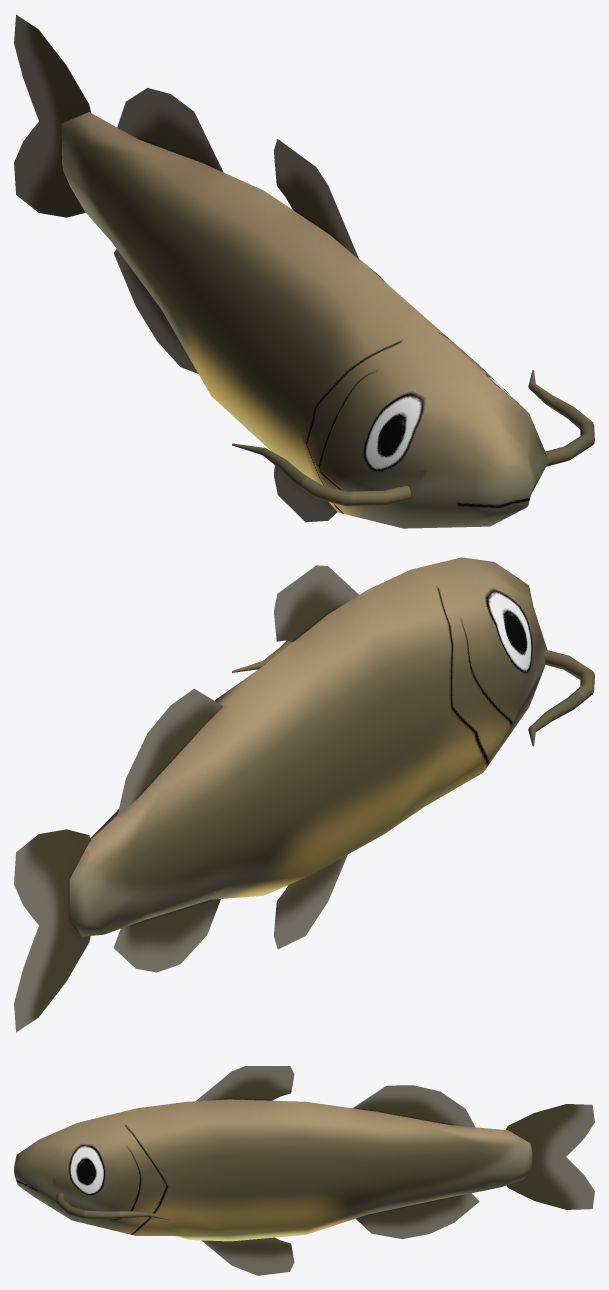
The model's file is Glowbelly_Snakehead.fbx.
3 views of the same model, one above another, from view 1: azimuth 30°, elevation 25°; view 2: azimuth 150°, elevation 25°; view 3: azimuth 270°, elevation 25° (orthographic). The views are drawn at different scales.
Visible parts, largest first — view 1: Sphere.004; view 2: Sphere.004; view 3: Sphere.004.
Boxes of the visible parts, x1,y1,x2,y2 form: Sphere.004: [14, 14, 594, 528]; Sphere.004: [14, 557, 594, 1032]; Sphere.004: [14, 1066, 594, 1275].
Size of the model in its own units: 108 by 127 by 311.
1 material, 1 textured.
